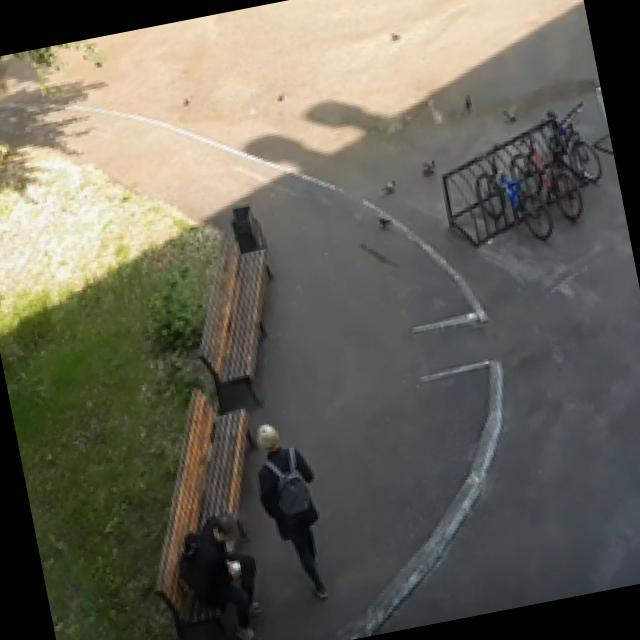person: (246, 415, 337, 605), (171, 511, 270, 640)
